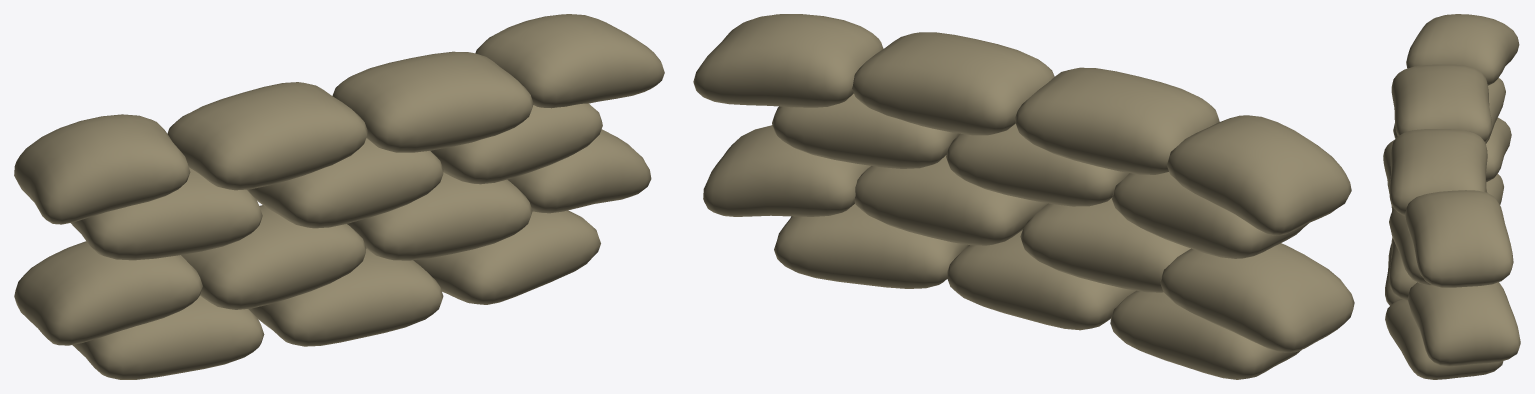
The model's file is Sack Trench.glb.
3 renders of one model, left to right at view 1: azimuth 30°, elevation 25°; view 2: azimuth 150°, elevation 25°; view 3: azimuth 270°, elevation 25°, orthographic. The views are drawn at different scales.
Parts seen in each view (by area): view 1: Sack Trench; view 2: Sack Trench; view 3: Sack Trench.
Boxes of the visible parts, x1,y1,x2,y2 form: Sack Trench: [14, 14, 664, 379]; Sack Trench: [693, 14, 1354, 379]; Sack Trench: [1383, 14, 1520, 379].
Bounding box in the file's own units: 3.16 × 1.19 × 0.7751.
